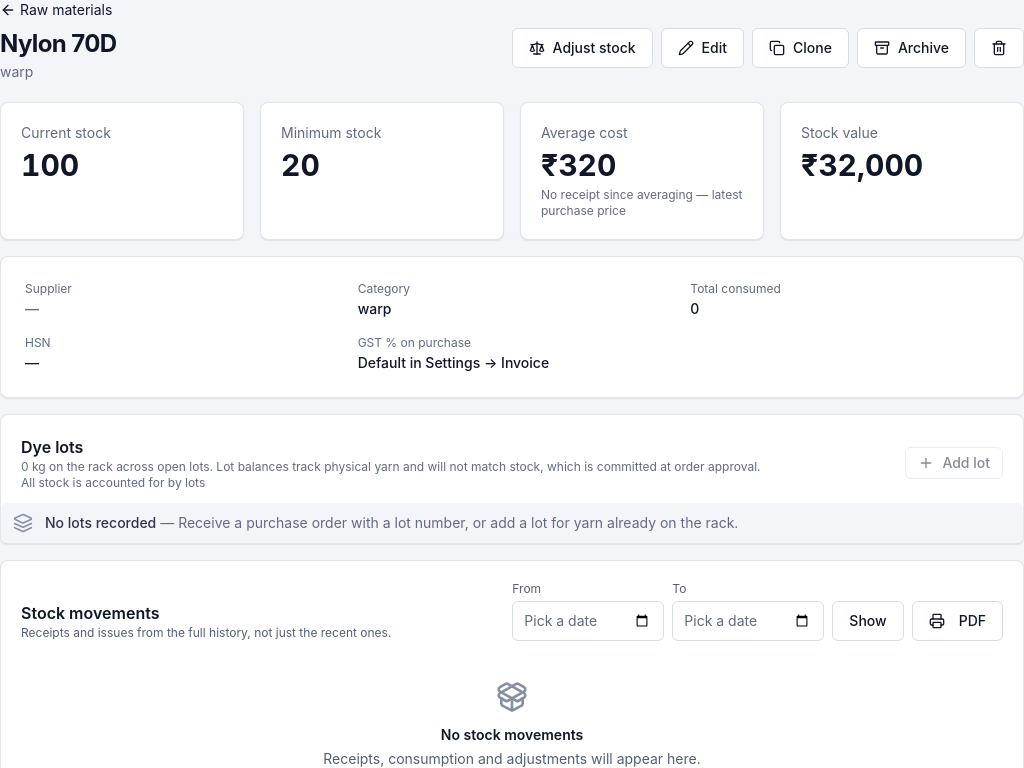
Test: naming the dye lot on a stock adjustment › asks for a lot number when stock is being added
This screenshot has width=1024, height=768.
Click the button "Adjust stock" at coordinates (582, 48), box [512,28,653,68]
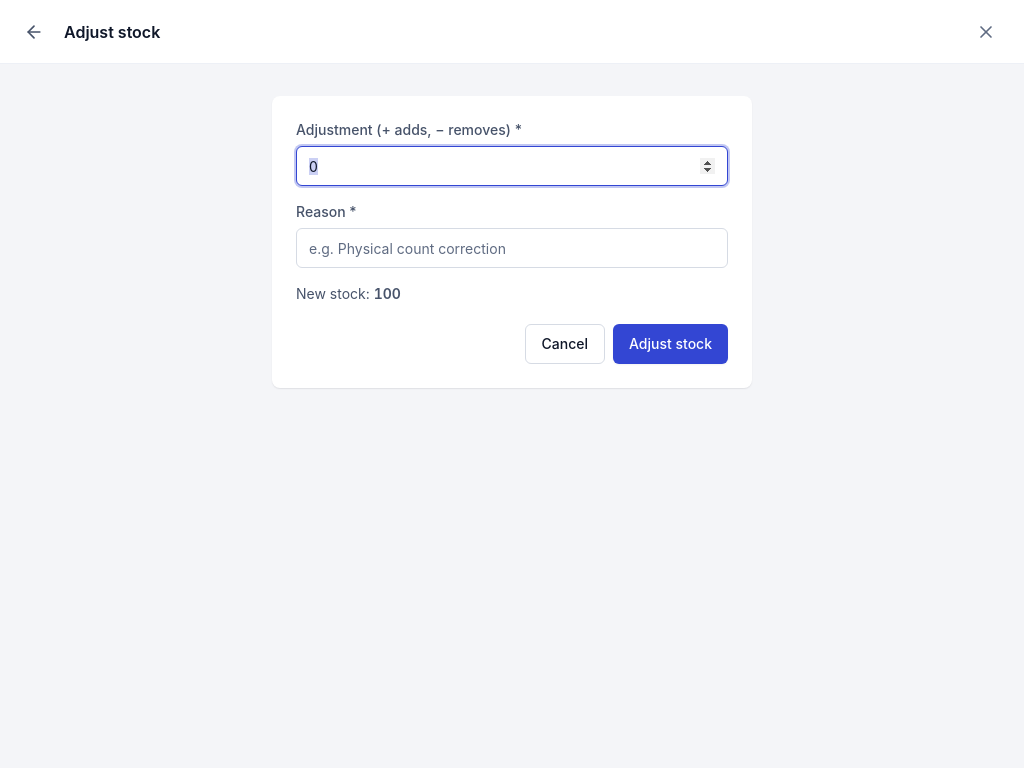
Replace the text in the number field labelled "Adjustment (+ adds, − removes) *" with "40" at coordinates (512, 166), box [296,146,728,186]
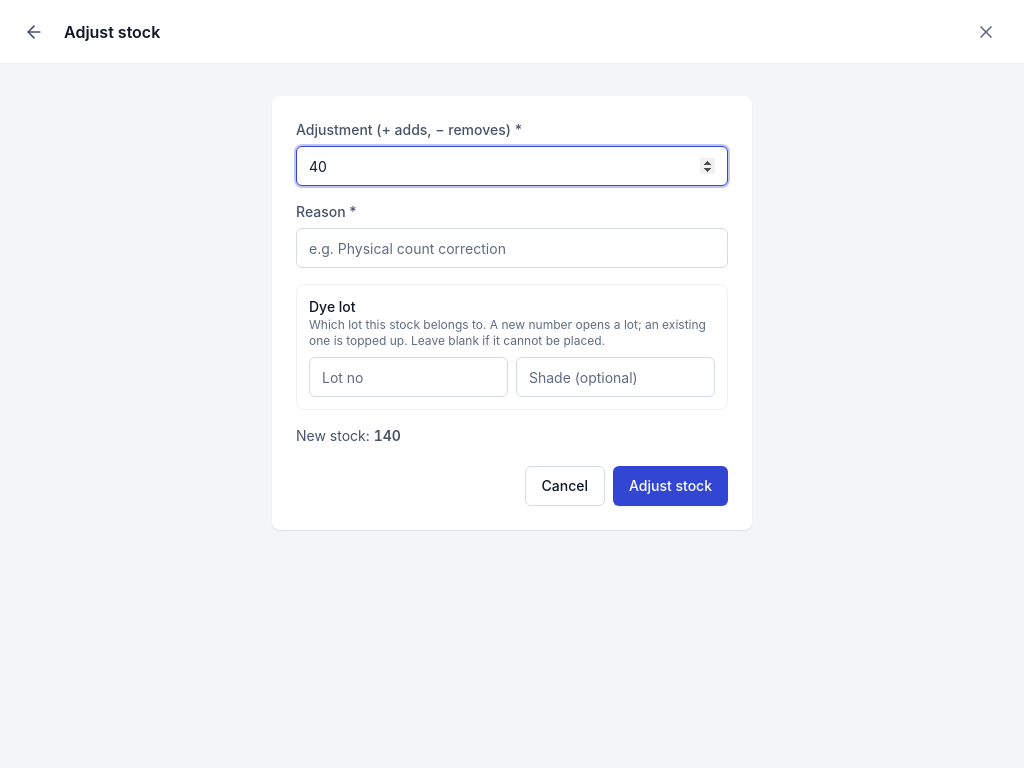
Expected: the field labelled "Lot no" is shown, [309,357,508,397]
Expected: the field labelled "Shade (optional)" is shown, [516,357,715,397]
